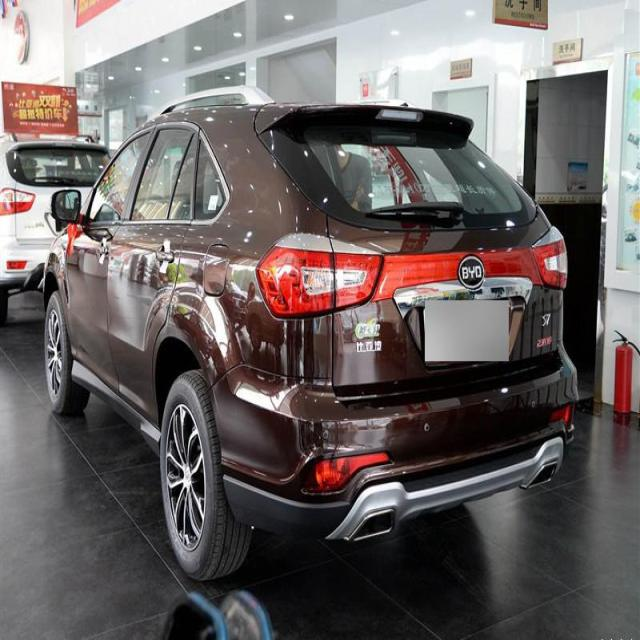back_glass: (262, 104, 536, 228)
back_left_side_light: (255, 226, 384, 319)
back_right_side_light: (532, 221, 570, 290)
door: (108, 128, 206, 405)
front_left_side_door: (63, 109, 157, 402)
front_left_side_mirror: (47, 183, 84, 227)
rear_bumper: (207, 332, 581, 532)
wheel: (157, 367, 242, 580), (45, 294, 92, 418)
